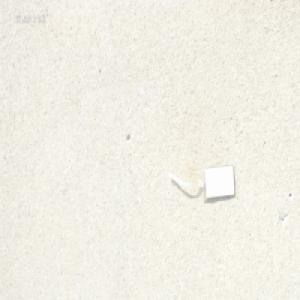LuggageTag: (166, 162, 236, 203)
